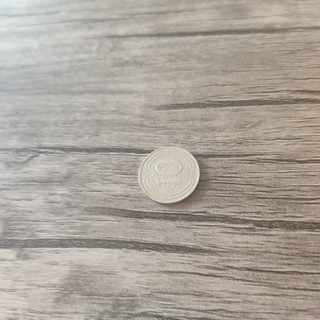10KURUS: (135, 144, 202, 206)
